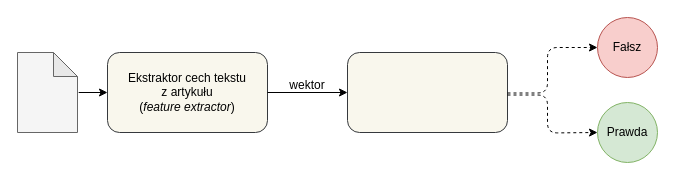
Image size: 675x180. Some labels were removed from this diagram. Each missing label, with the centre of its shape:
Artykuł: point 47,92
Wytrenowany model: point 427,92
